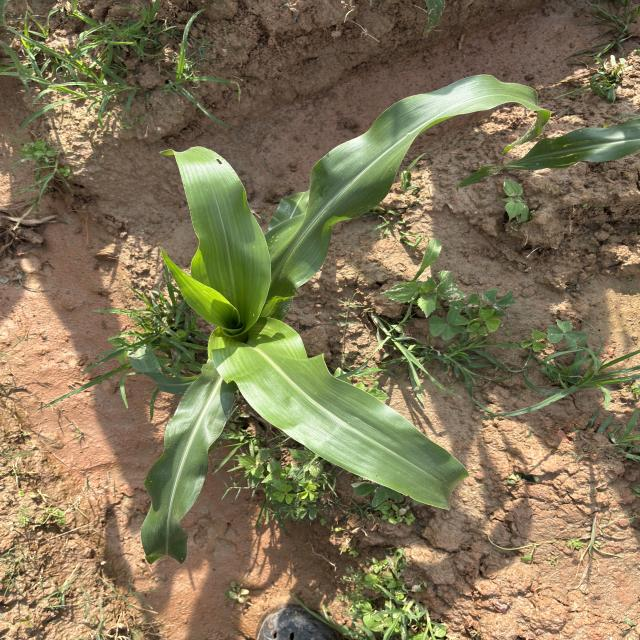maize: (189, 181, 360, 446), (325, 94, 640, 180), (145, 413, 201, 546)
weed: (9, 48, 170, 177), (516, 305, 640, 450), (325, 492, 432, 638), (372, 271, 512, 374), (117, 296, 184, 378), (239, 445, 306, 511)
